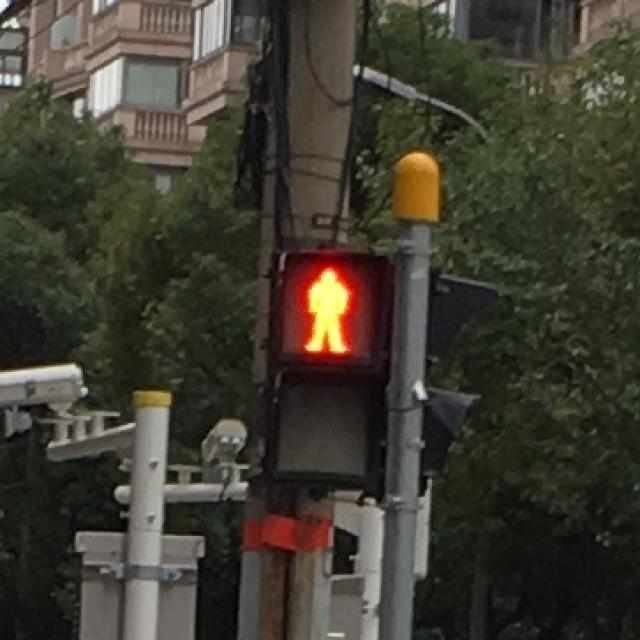red-crossing: (280, 252, 372, 362)
